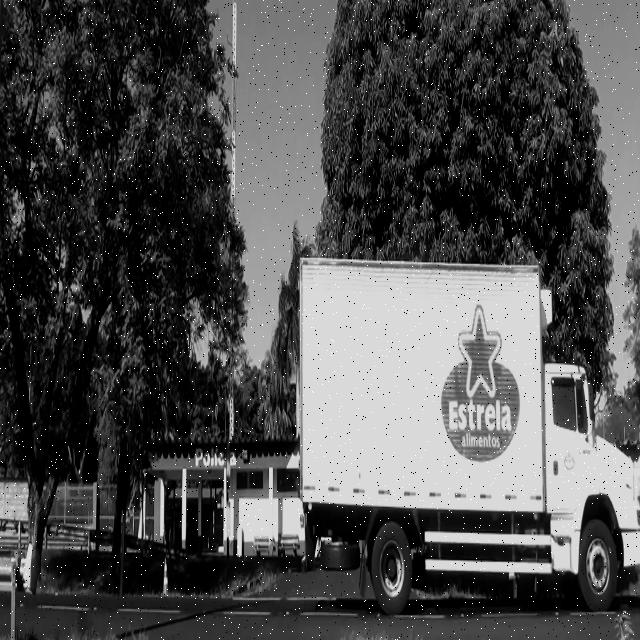-axle: (577, 524, 620, 615), (373, 521, 412, 611)
